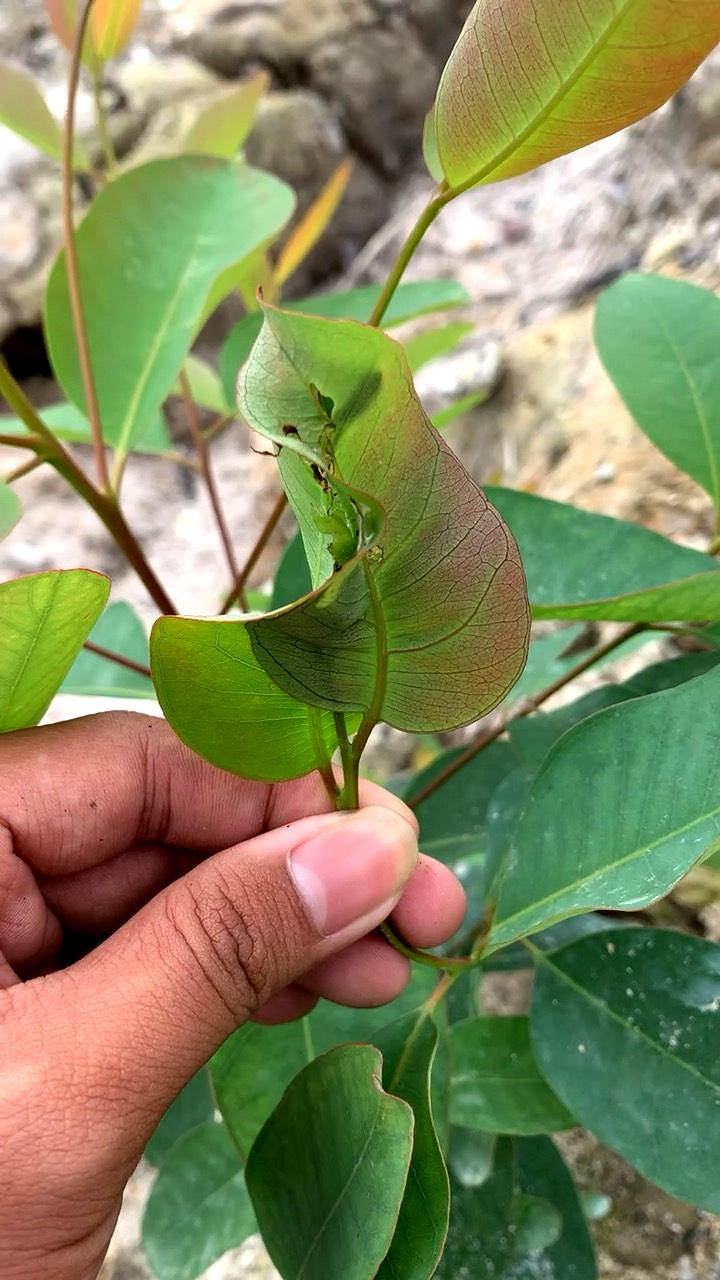Leaf Roller - Leaf: (123, 278, 553, 808)
